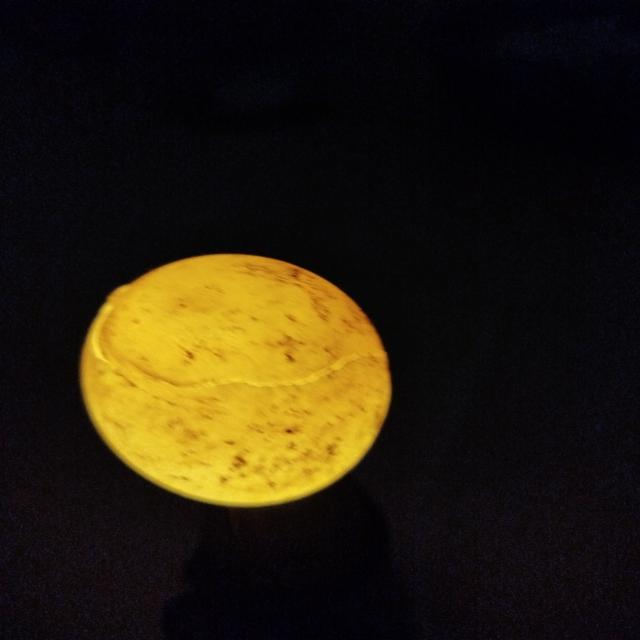Rachadura: (87, 287, 388, 393)
